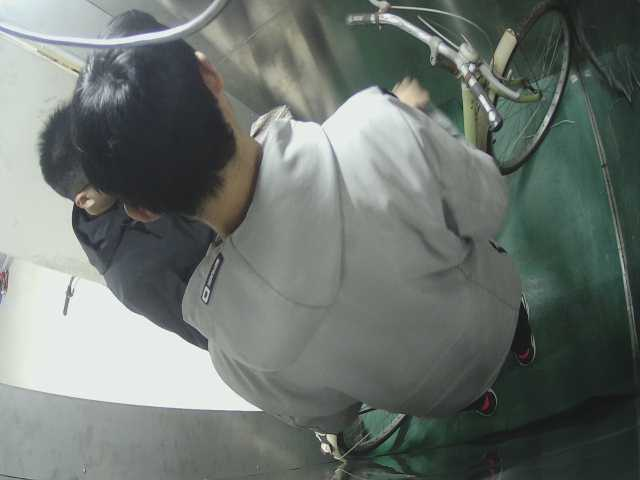bicycle: (341, 1, 593, 209)
person: (76, 36, 557, 430), (31, 104, 224, 349)
